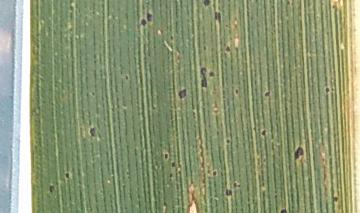tarspot: (290, 144, 306, 162), (198, 63, 208, 91), (175, 85, 190, 100), (87, 123, 98, 140), (212, 9, 223, 26), (222, 186, 234, 197), (223, 136, 234, 148), (145, 10, 155, 22), (259, 128, 269, 140), (330, 192, 340, 204), (323, 83, 331, 97), (277, 205, 291, 213), (232, 84, 240, 98), (261, 88, 272, 98), (209, 168, 219, 179), (47, 183, 56, 195), (62, 171, 74, 180), (137, 18, 147, 28), (222, 43, 232, 53), (162, 151, 171, 162), (208, 69, 216, 81), (201, 1, 213, 7)
